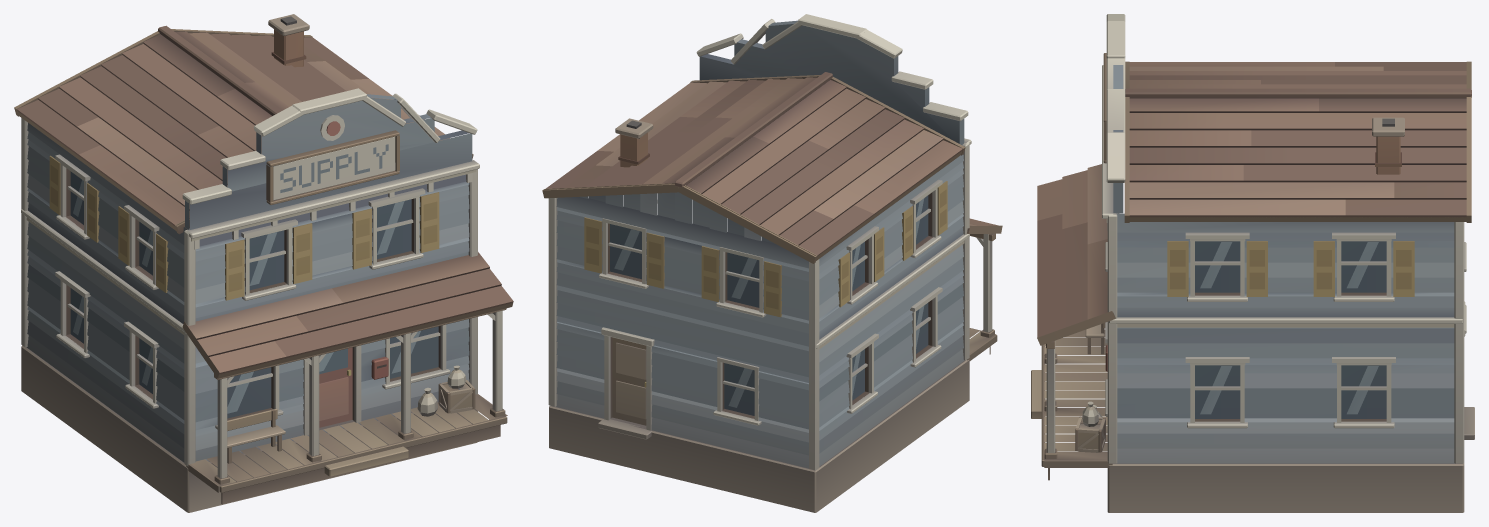
File: house_7.glb
3 views of the same model, side by side, from view 1: azimuth 30°, elevation 25°; view 2: azimuth 150°, elevation 25°; view 3: azimuth 270°, elevation 25° (orthographic). The views are drawn at different scales.
Size of the model in its own units: 7.45 by 9.03 by 9.09.
